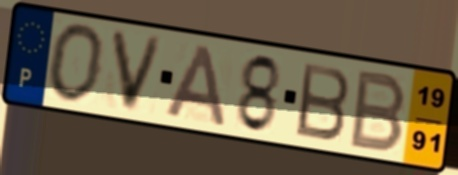8: (234, 50, 284, 137)
A: (162, 41, 229, 129)
B: (346, 67, 410, 154), (294, 60, 353, 144)
O: (46, 21, 108, 107)
V: (107, 26, 167, 116)
